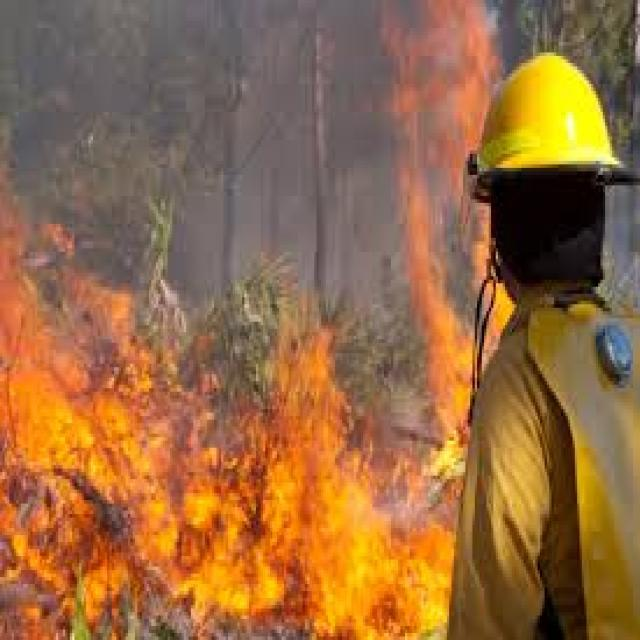Fire: (0, 448, 449, 636), (382, 0, 486, 442), (3, 227, 164, 447), (172, 324, 353, 450)
Smoke: (177, 0, 370, 283), (7, 7, 162, 210)
